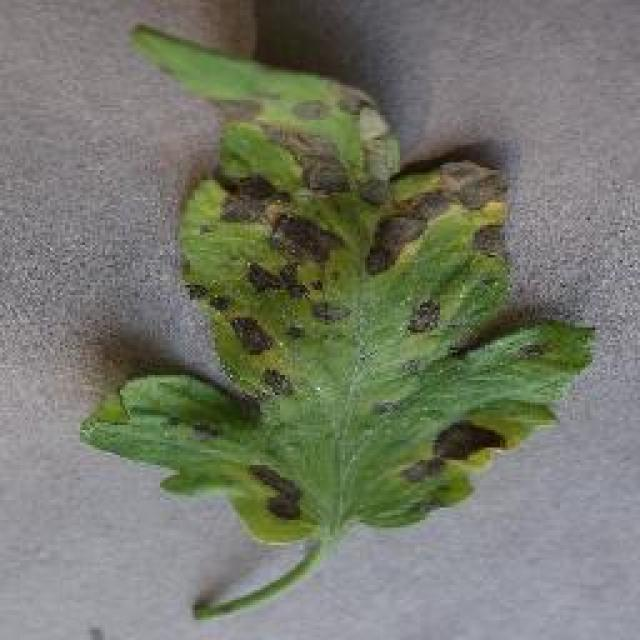Tomato Early blight leaf: (101, 25, 571, 590)
